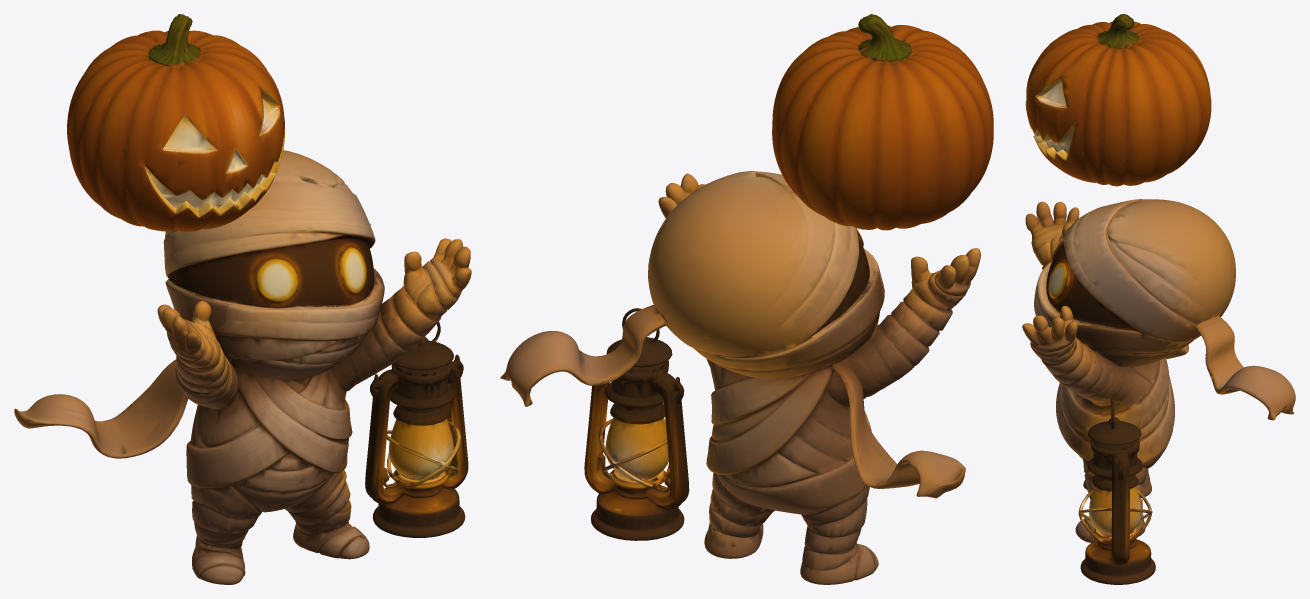
Rendered from pixellabs-halloween-mummy-2823.high.glb.
The picture shows the model from 3 angles, left to right: view 1: azimuth 30°, elevation 25°; view 2: azimuth 150°, elevation 25°; view 3: azimuth 270°, elevation 25°; orthographic projection. The views are drawn at different scales.
Visible parts, largest first — view 1: material; view 2: material; view 3: material.
Part boxes in pixels (x1,y1,x2,y2): material: (14,14,471,584); material: (500,14,993,584); material: (1022,14,1295,584).
Bounding box in the file's own units: 0.738 × 0.9656 × 0.5167.
1 material, 1 textured.
